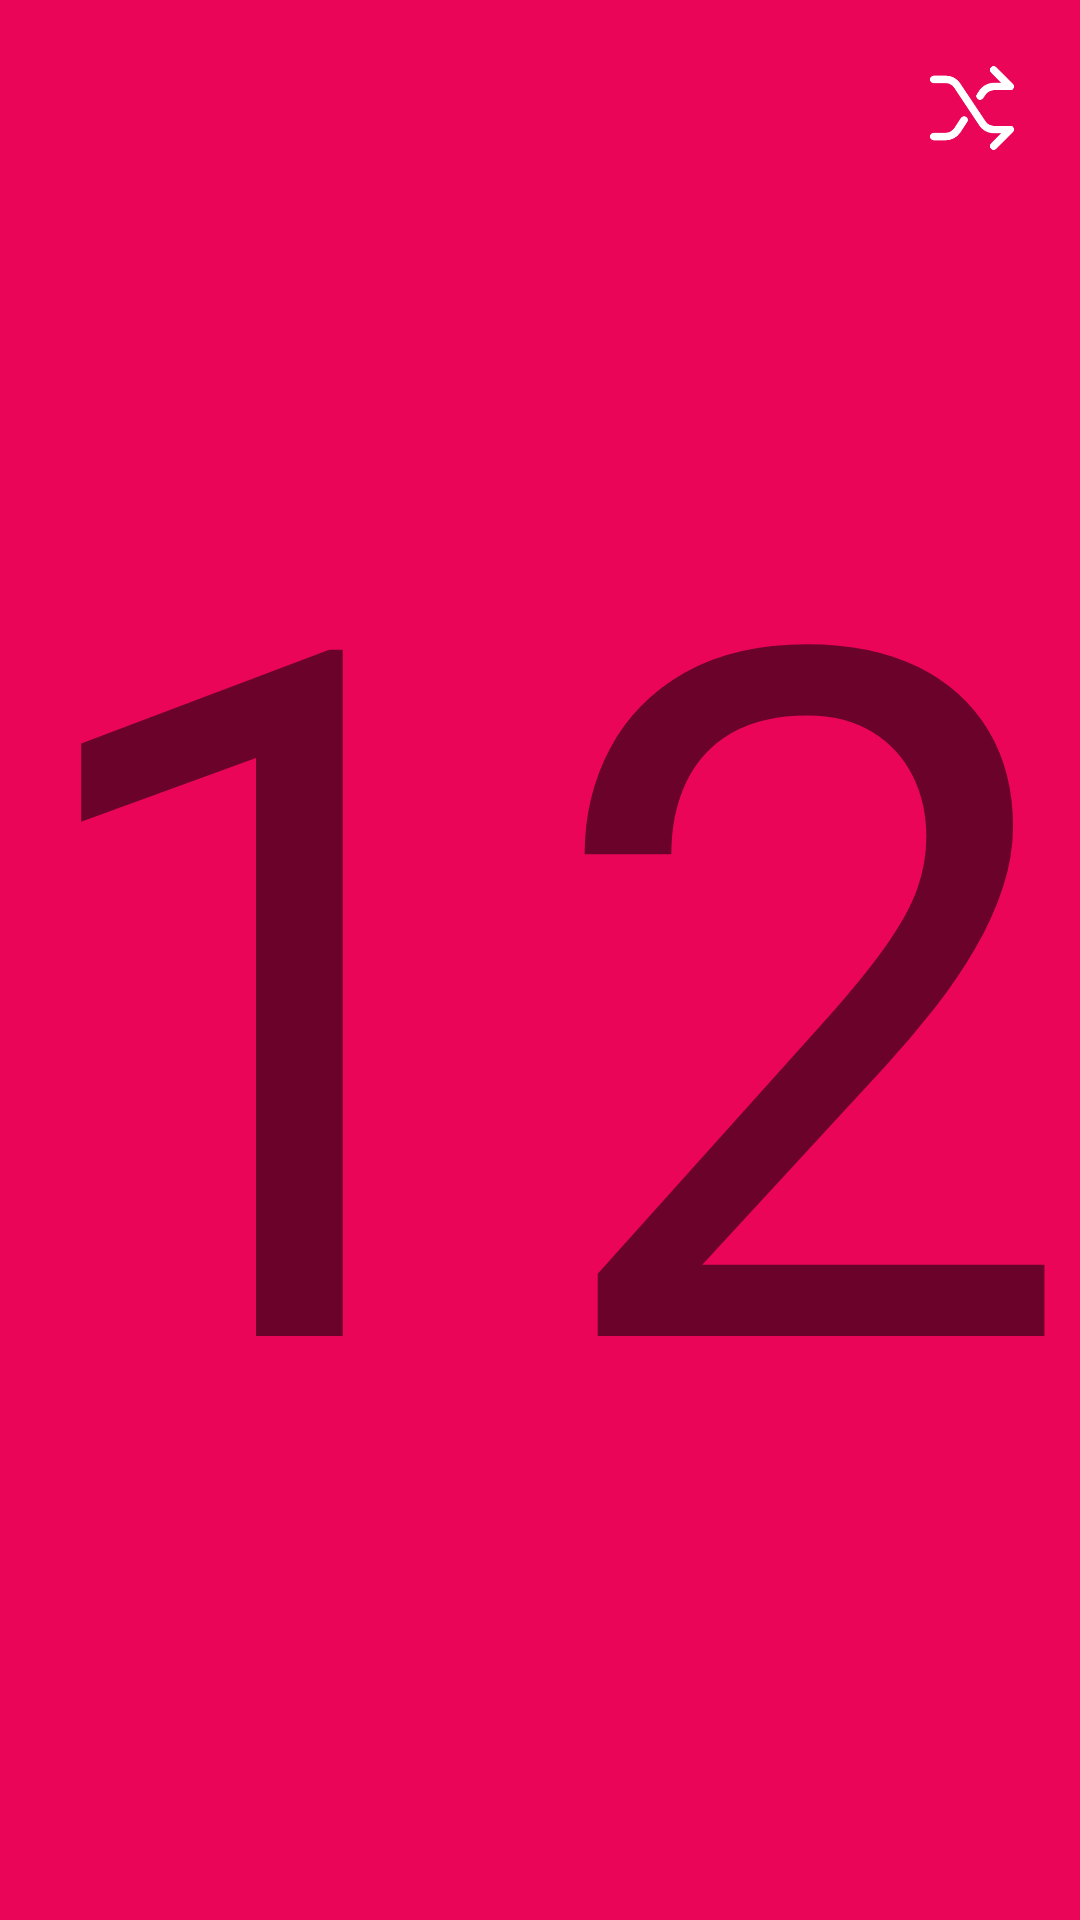

Icons on this 1080*1920 Android screen, each with its box as (x1,y1,x2,y2):
shuffle order play: (930,66,1014,150)
